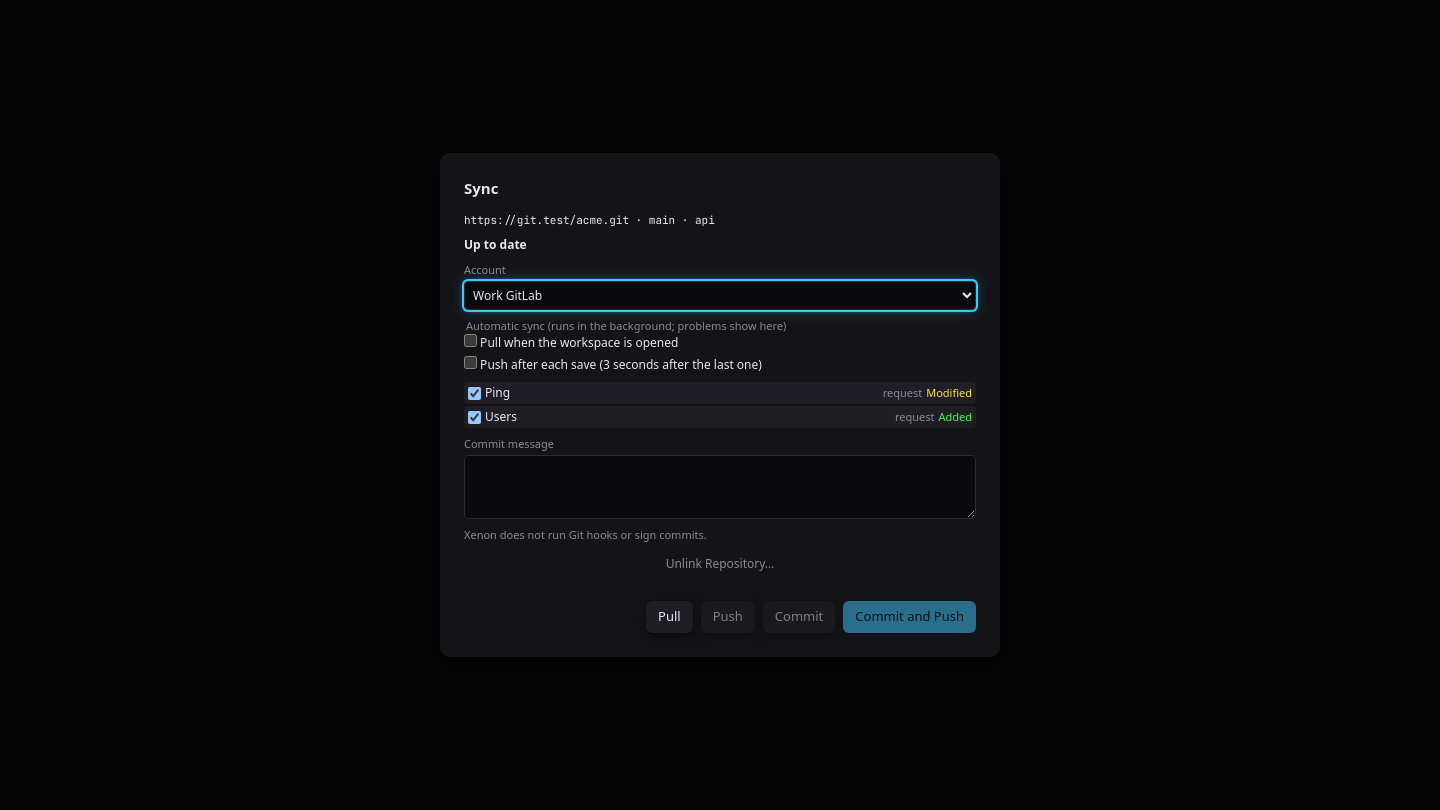
sync UI › unlinks the repository into a chosen folder after confirmation
Click the button "Unlink Repository…": click(720, 564) [464,551,976,577]
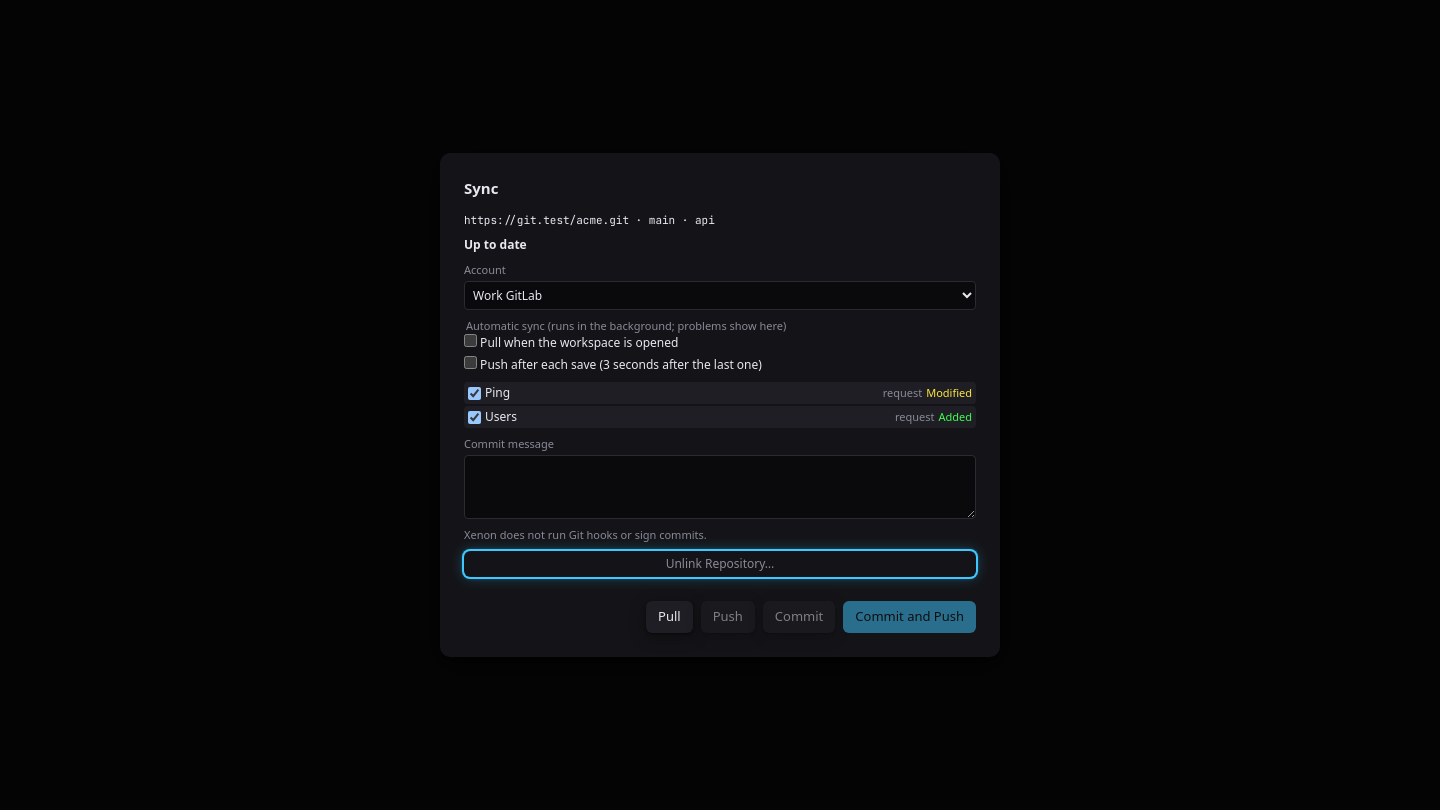
expect the button "Unlink and Delete Clone" is not shown: met
Click the button "Unlink Repository…": click(720, 564) [464,551,976,577]
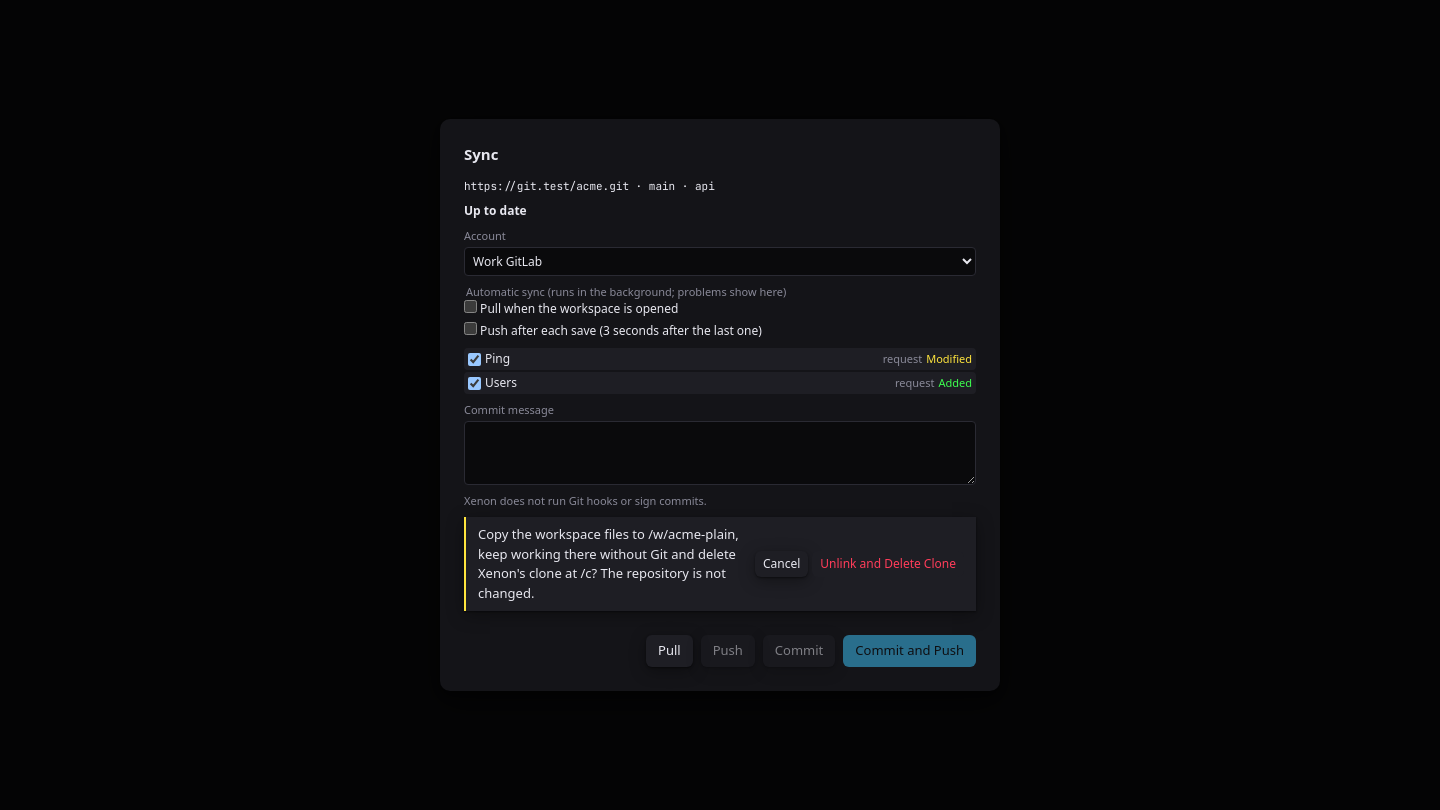
expect the text "delete Xenon's clone at" shows "/c": met, box [580,564,592,582]
Click the button "Cancel": click(782, 564) [755,551,808,577]
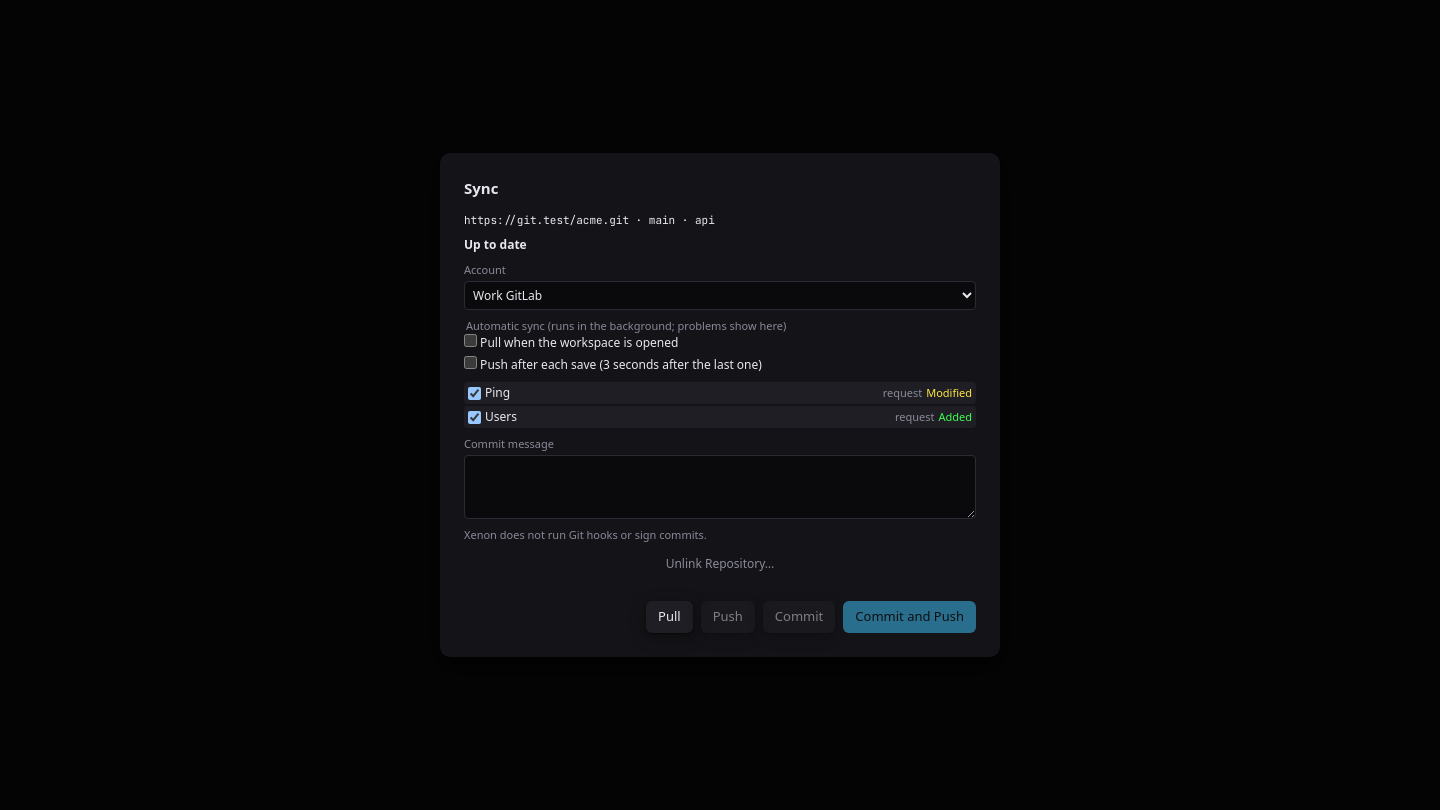
Click the button "Unlink Repository…": click(720, 564) [464,551,976,577]
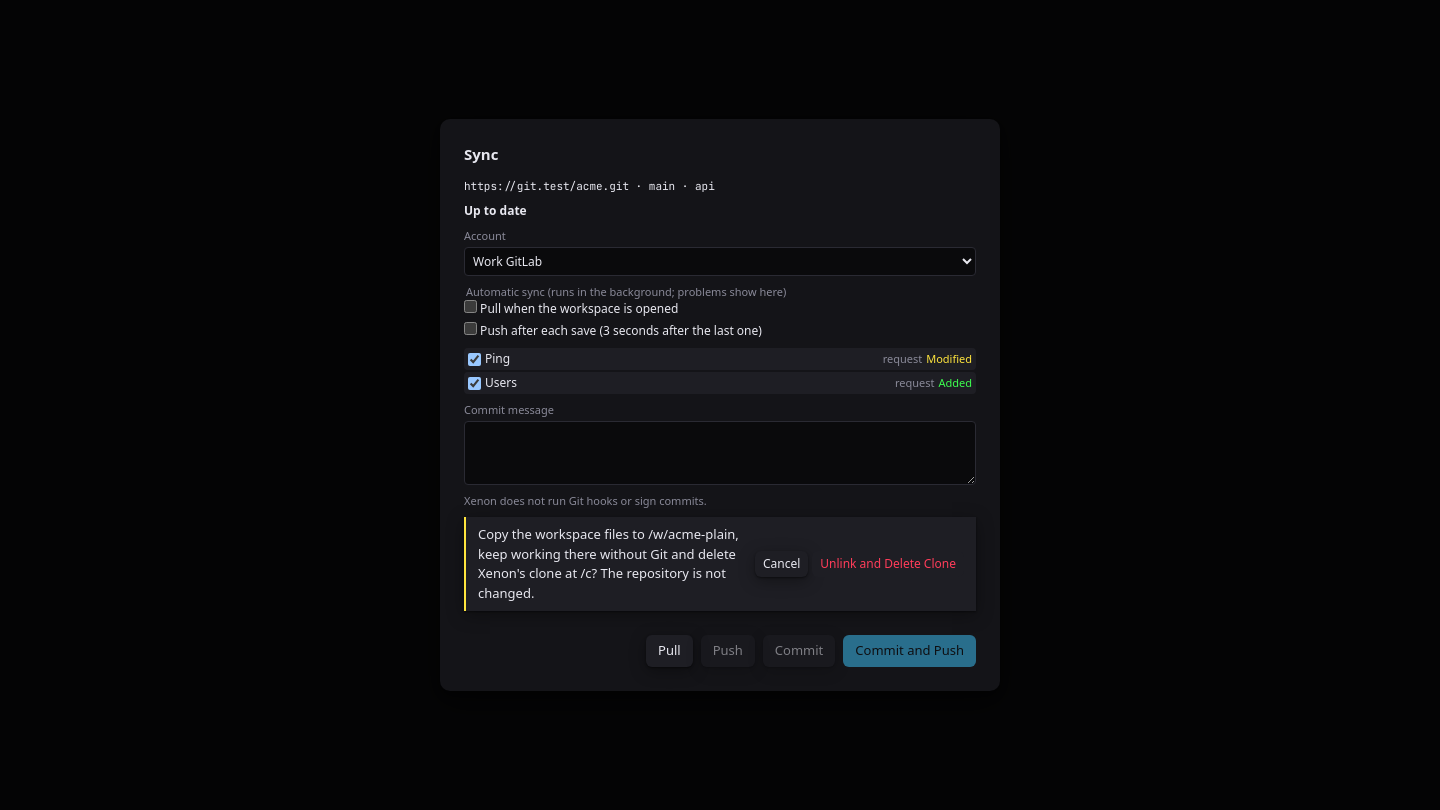
Click the button "Unlink and Delete Clone": click(888, 564) [812,551,964,577]
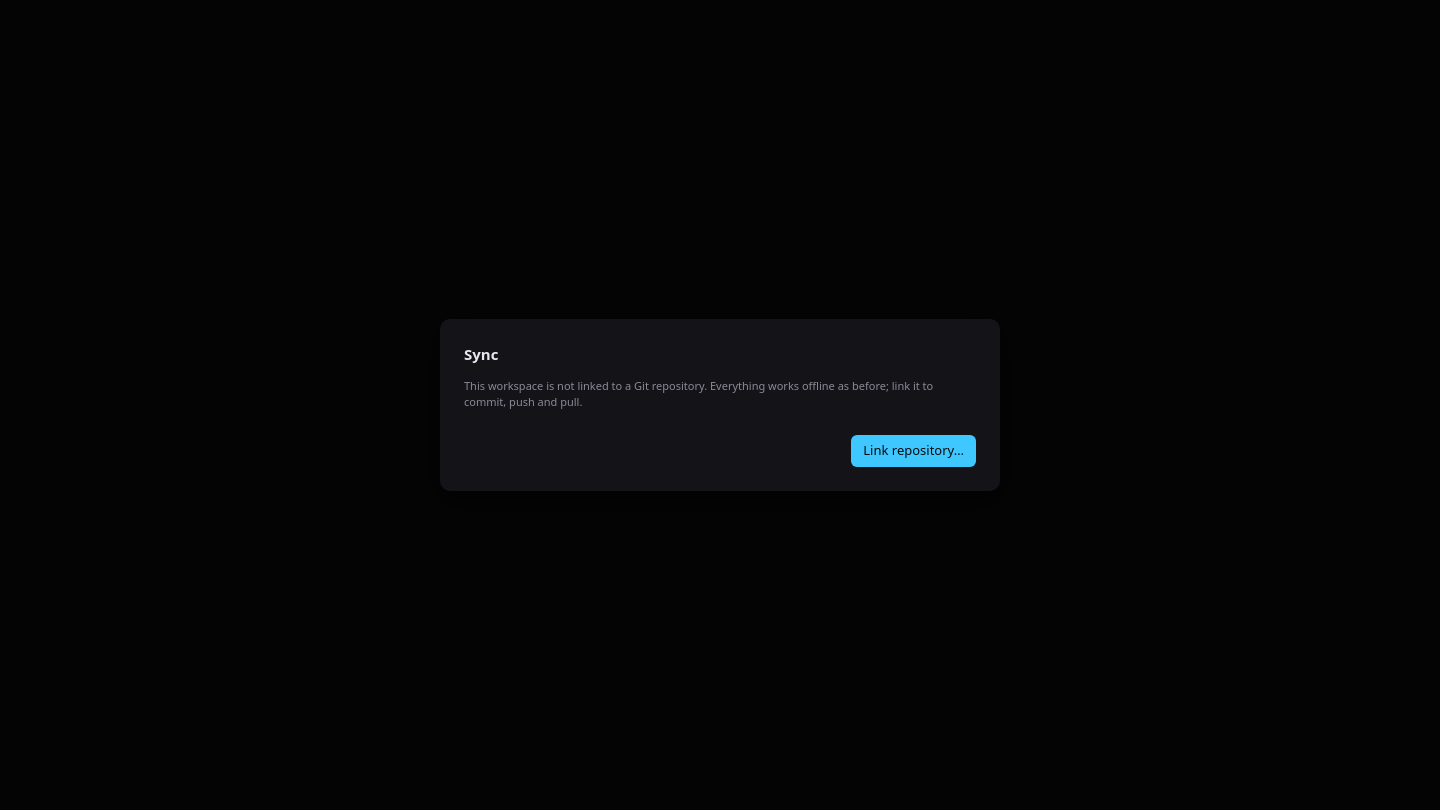
expect the text "not linked to a Git repository" is shown: met, box [464,378,933,409]
